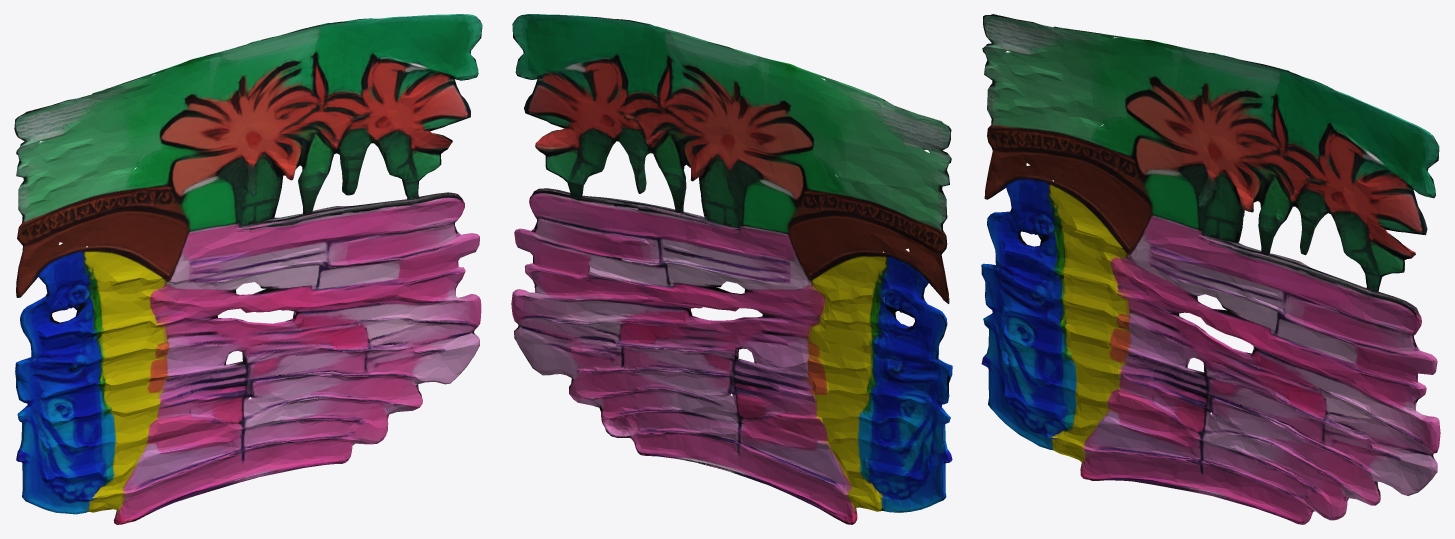
The model's file is icon.glb.
3 renders of one model, left to right at view 1: azimuth 30°, elevation 25°; view 2: azimuth 150°, elevation 25°; view 3: azimuth 330°, elevation 25°, orthographic. The views are drawn at different scales.
Parts seen in each view (by area): view 1: world; view 2: world; view 3: world.
Boxes of the visible parts, x1,y1,x2,y2 form: world: [14, 14, 482, 524]; world: [511, 14, 952, 524]; world: [981, 14, 1440, 524].
Size of the model in its own units: 0.998 by 0.9474 by 0.055.
1 material, 1 textured.
